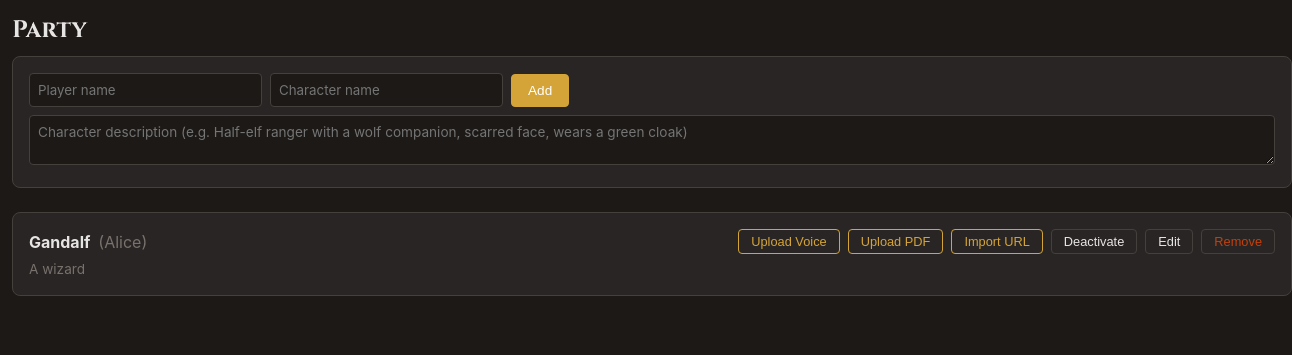
Test case: RosterPage › shows Import URL input when Import URL button is clicked
What coordinates should you click on to do the following:
click the button "Import URL"
I would click on:
 (997, 242)
Its box is [951,229,1043,254].
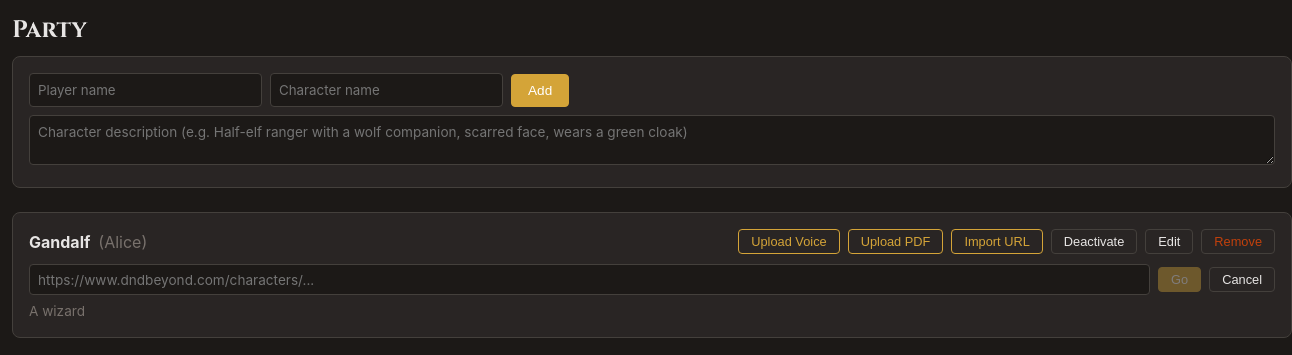
Expected: the field with placeholder "https://www.dndbeyond.com/characters/..." is shown, [29,264,1150,295]
Expected: the button "Go" is shown, [1158,267,1201,292]
